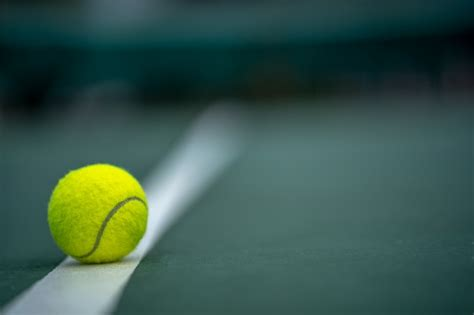tennis_ball: (47, 163, 149, 263)
